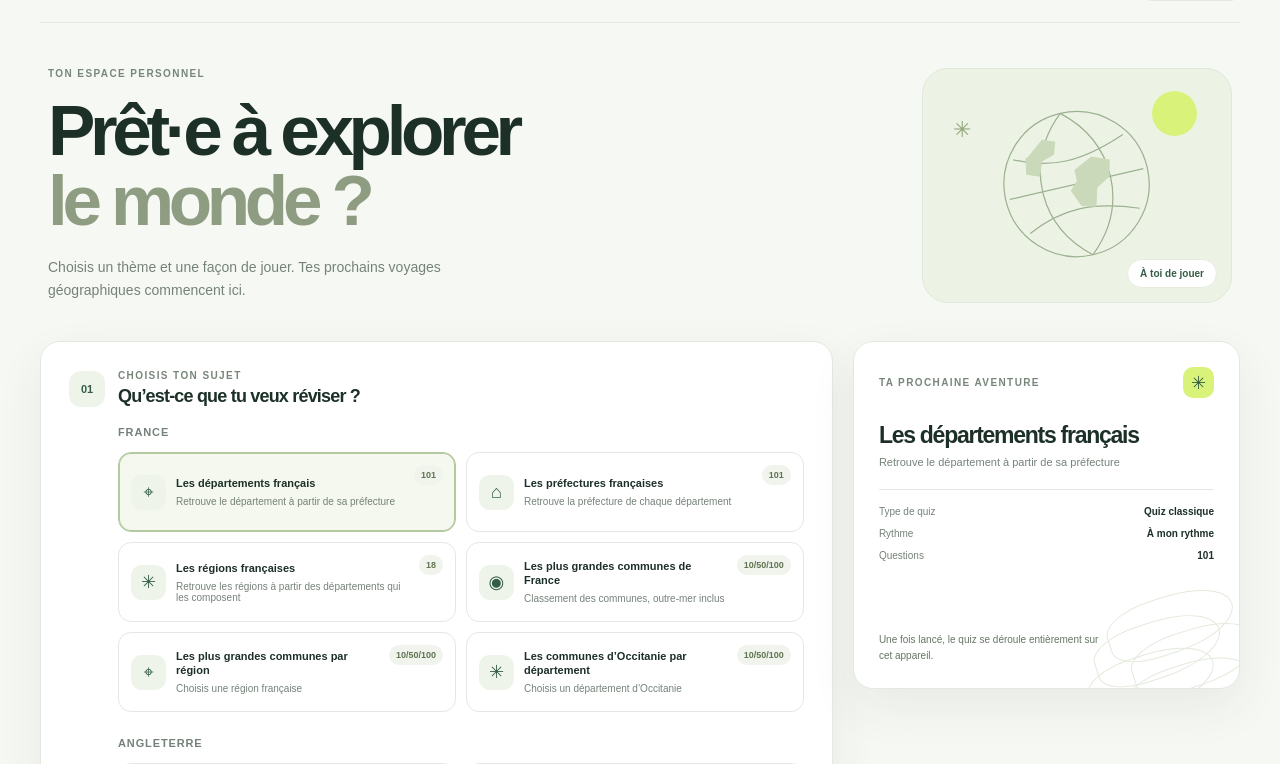
Test: GeoLearner page interactions › updates the quiz summary when a quiz and mode are selected
This screenshot has width=1280, height=764.
Click the button "Les plus grandes communes de France" at {"x": 496, "y": 582}, box [466,542,804,622]
(page scrolled)
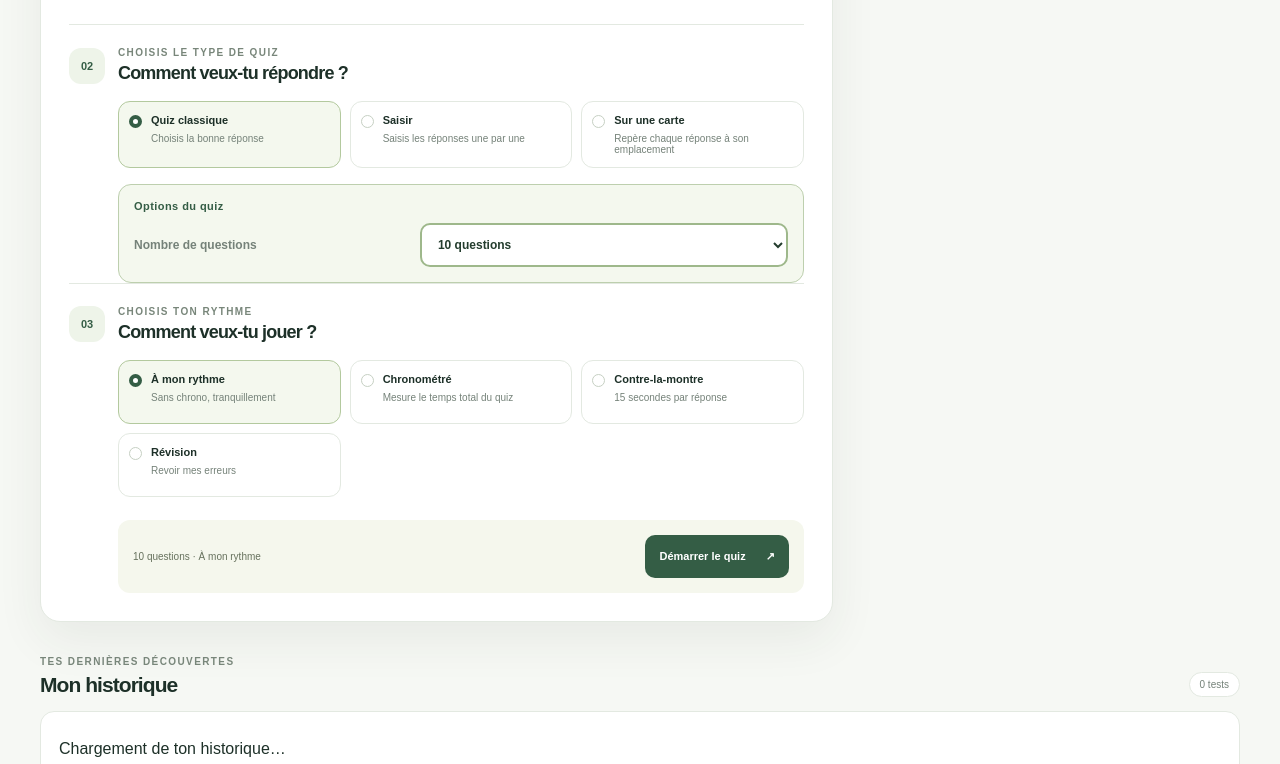
Click the button "Contre-la-montre 15 secondes par réponse" at {"x": 693, "y": 392}, box [581,360,804,424]
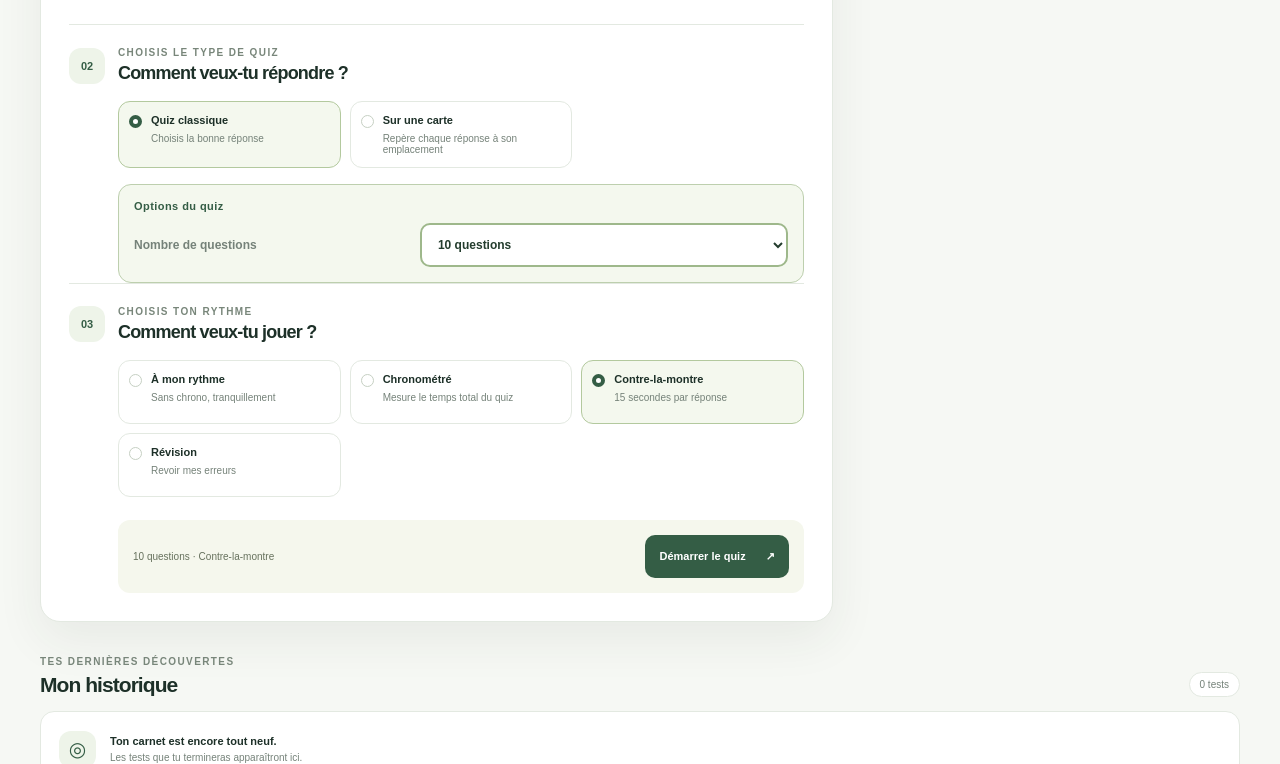
Expected: the text "10 questions · Contre-la-montre" is shown, [133,551,274,562]
